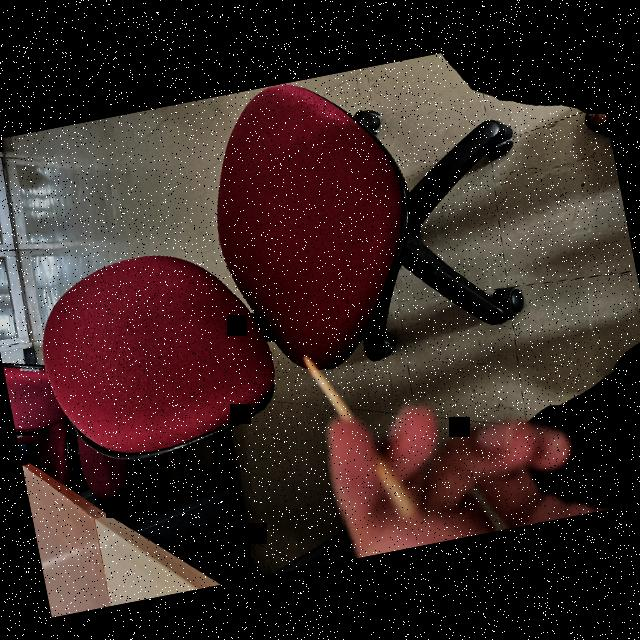stick: (276, 322, 458, 565)
